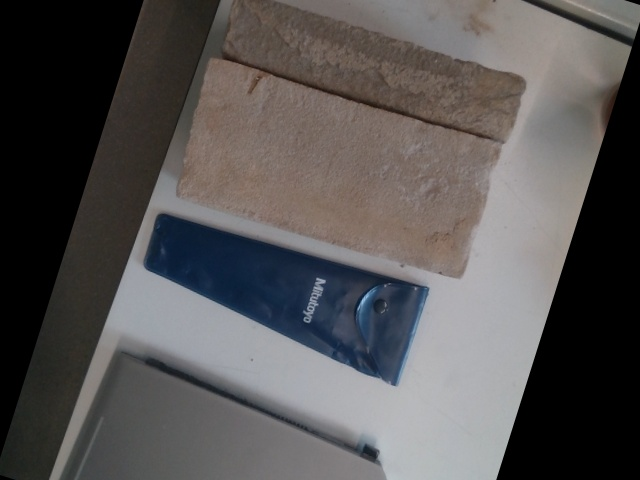brick: (173, 55, 497, 279)
